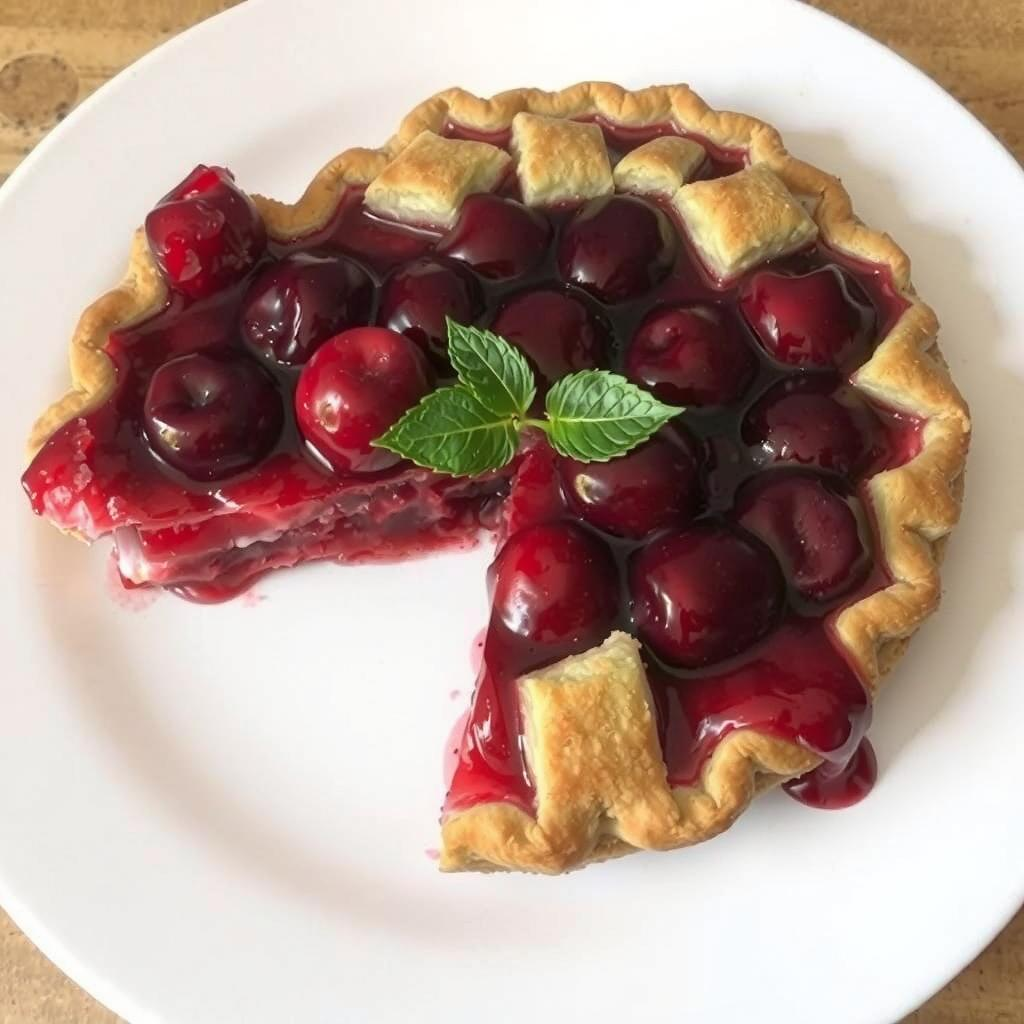pie: (29, 74, 973, 889)
